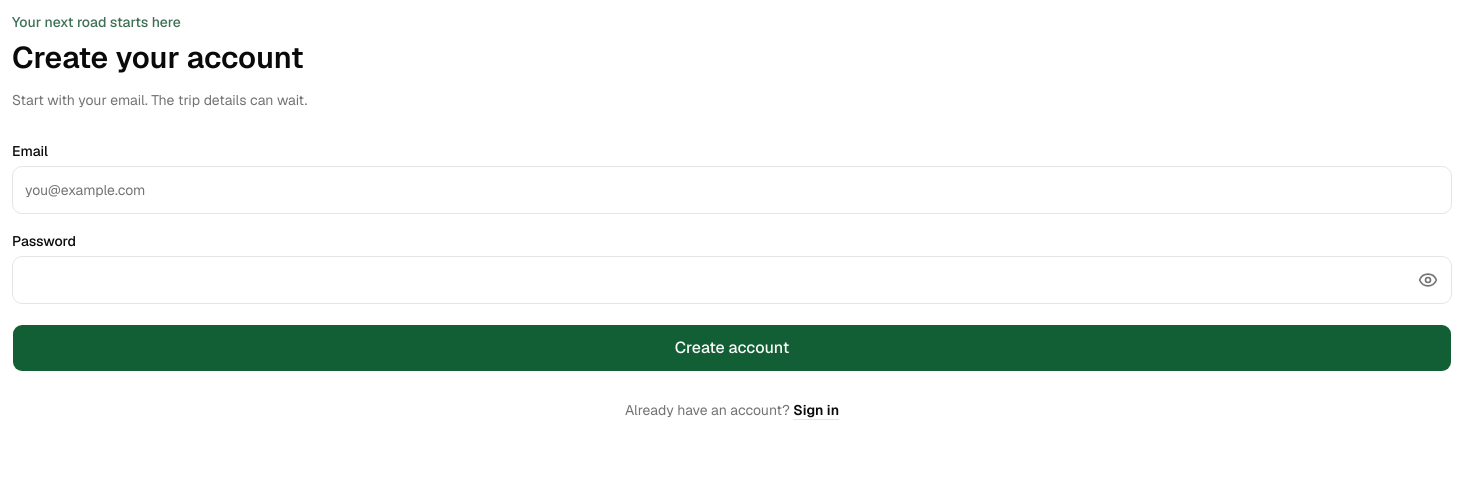
Test case: AuthForm › shows client validation errors without submitting
This screenshot has width=1464, height=493.
What coordinates should you click on to do the following:
click the button "Create account"
I would click on:
 (732, 348)
Its box is [12,324,1452,372].
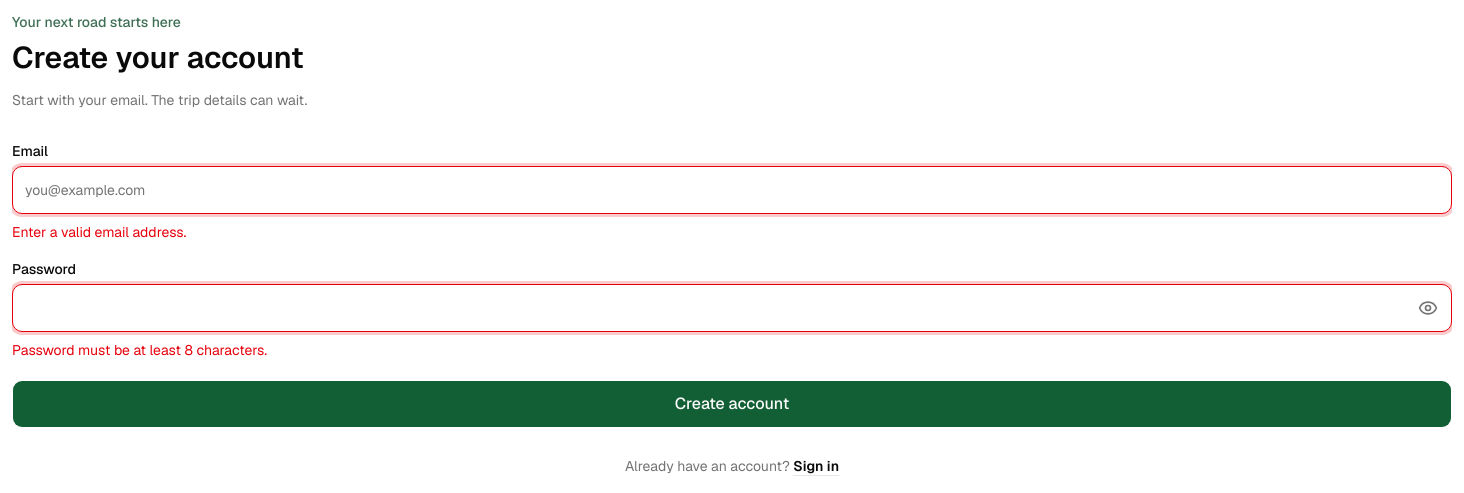
Expected: the text "Enter a valid email address." is shown, [12,223,186,241]
Expected: the text "Password must be at least 8 characters." is shown, [12,341,267,359]
